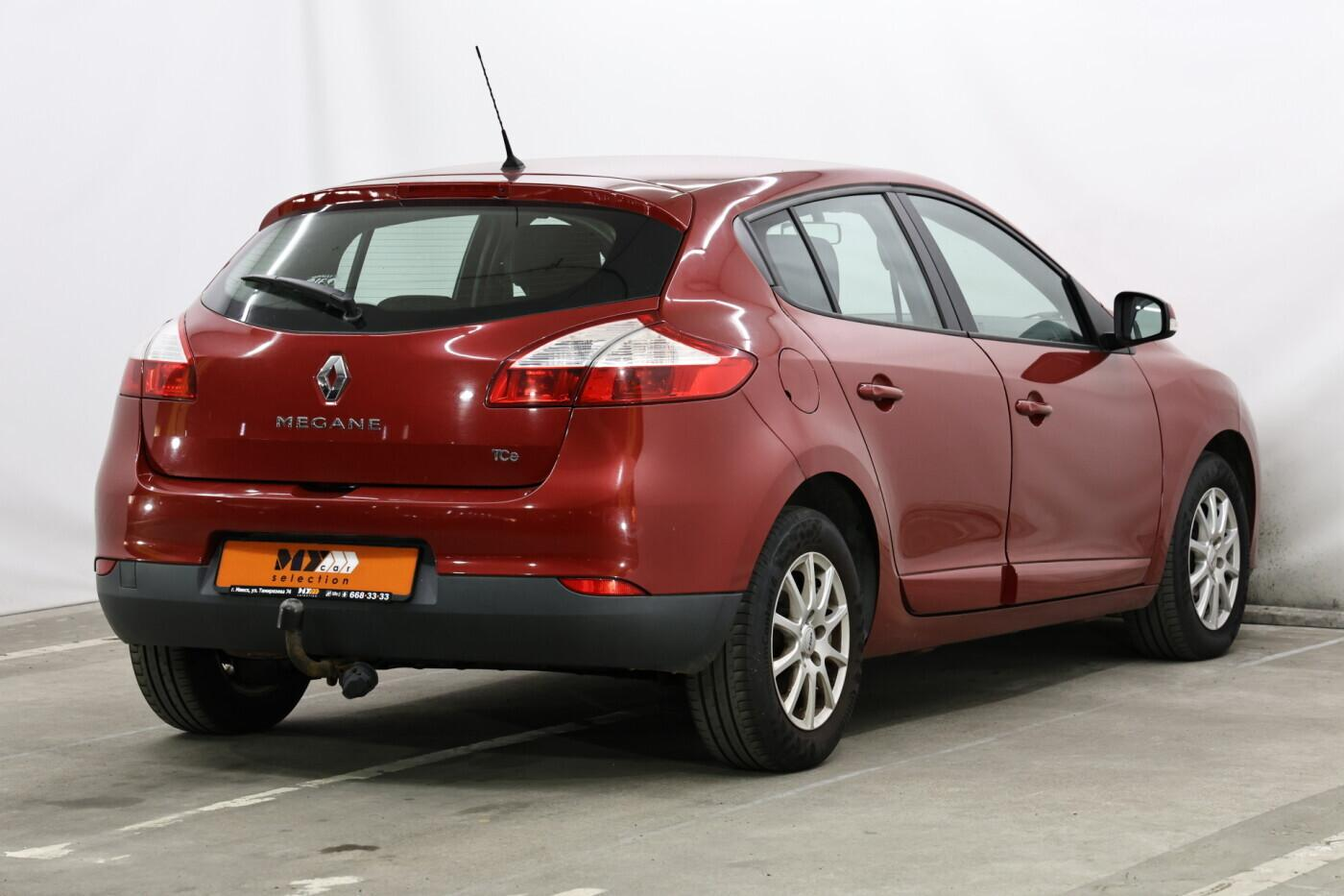Megane_2012-2014: (71, 156, 1264, 780)
